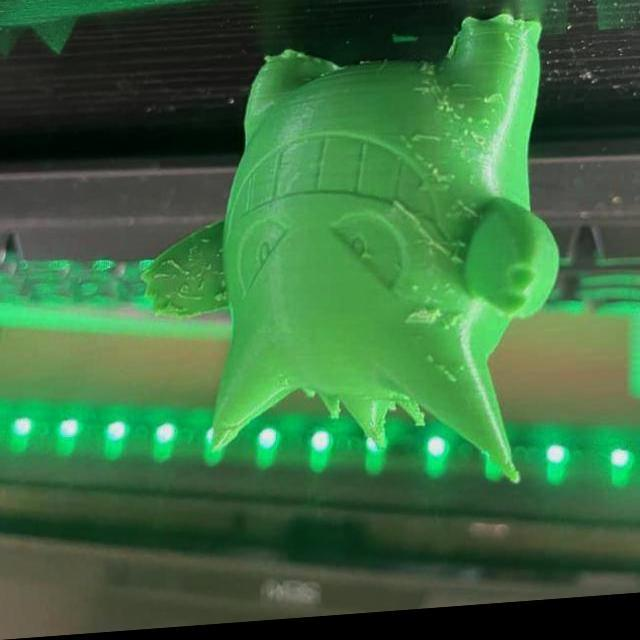zits: (463, 120, 479, 132), (444, 108, 456, 122), (408, 289, 422, 300), (435, 111, 447, 122)
